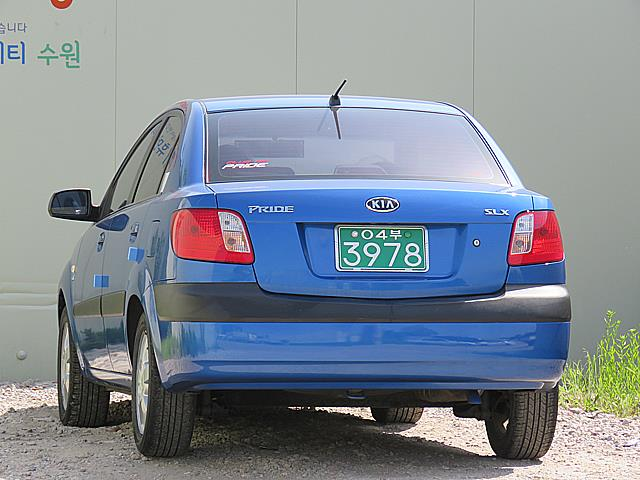plate: (339, 227, 425, 269)
